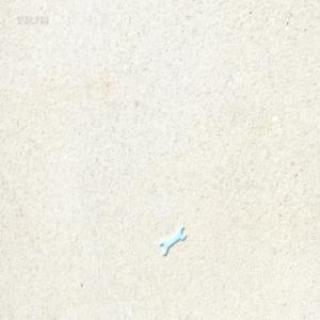Wrenchtrack_idkeyframe: (159, 227, 185, 257)
